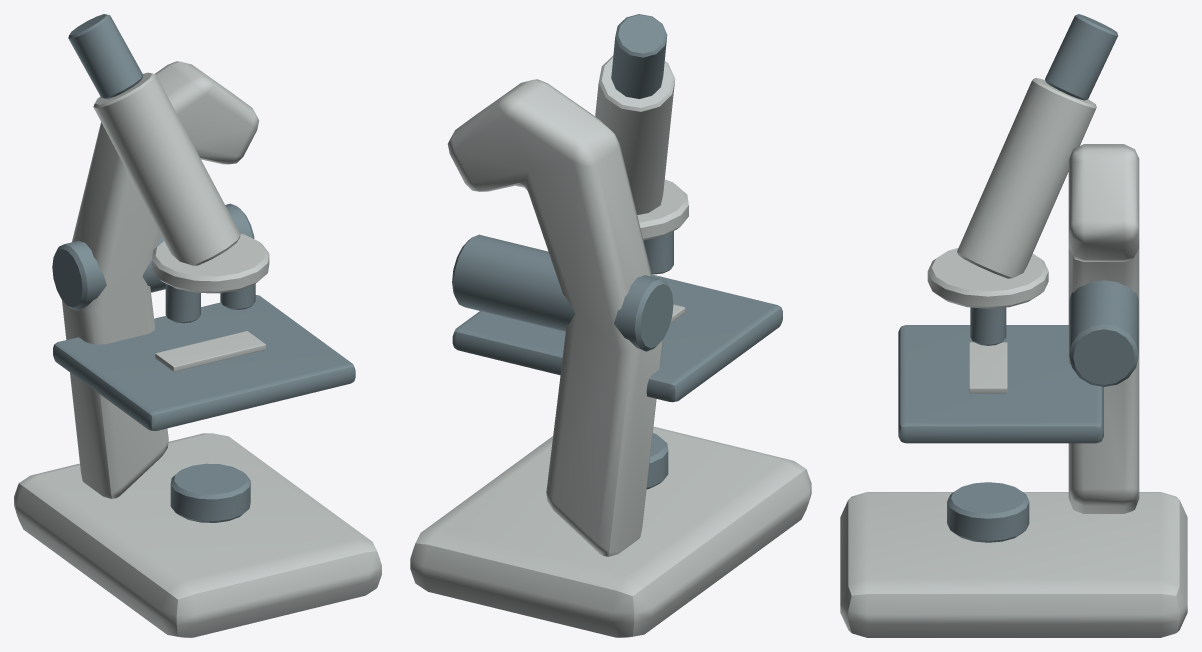
Rendered from microscope.glb.
The picture shows the model from 3 angles, left to right: view 1: azimuth 30°, elevation 25°; view 2: azimuth 150°, elevation 25°; view 3: azimuth 270°, elevation 25°; orthographic projection. The views are drawn at different scales.
Parts seen in each view (by area): view 1: microscope_base, curved_arm, stage, optical_body, objective_turret, illuminator, eyepiece, focus_knob, slide, objective, objective.001; view 2: curved_arm, microscope_base, stage, focus_knob, optical_body, eyepiece, objective_turret, objective, illuminator; view 3: microscope_base, stage, curved_arm, optical_body, focus_knob, objective_turret, illuminator, eyepiece, slide, objective.001.
Boxes of the visible parts, box(x1,y1,x2,y2) form: microscope_base: box(14, 433, 381, 637); curved_arm: box(62, 61, 259, 498); stage: box(53, 295, 355, 430); optical_body: box(93, 72, 240, 265); objective_turret: box(151, 233, 269, 293); illuminator: box(170, 463, 250, 522); eyepiece: box(68, 14, 143, 98); focus_knob: box(52, 203, 254, 310); slide: box(155, 331, 265, 371); objective: box(165, 284, 200, 323); objective.001: box(220, 284, 255, 309); curved_arm: box(447, 79, 662, 556); microscope_base: box(410, 426, 811, 637); stage: box(452, 274, 782, 402); focus_knob: box(452, 234, 673, 351); optical_body: box(595, 55, 675, 214); eyepiece: box(611, 14, 667, 98); objective_turret: box(637, 179, 688, 240); objective: box(643, 231, 673, 274); illuminator: box(646, 433, 668, 489); microscope_base: box(840, 492, 1187, 637); stage: box(898, 325, 1103, 443); curved_arm: box(1068, 144, 1139, 513); optical_body: box(957, 78, 1096, 278); focus_knob: box(1069, 280, 1138, 386); objective_turret: box(927, 248, 1048, 308); illuminator: box(947, 482, 1029, 542); eyepiece: box(1045, 14, 1118, 100); slide: box(969, 342, 1007, 393); objective.001: box(970, 307, 1006, 345).
Bounding box in the file's own units: 0.2 × 0.4689 × 0.27.
